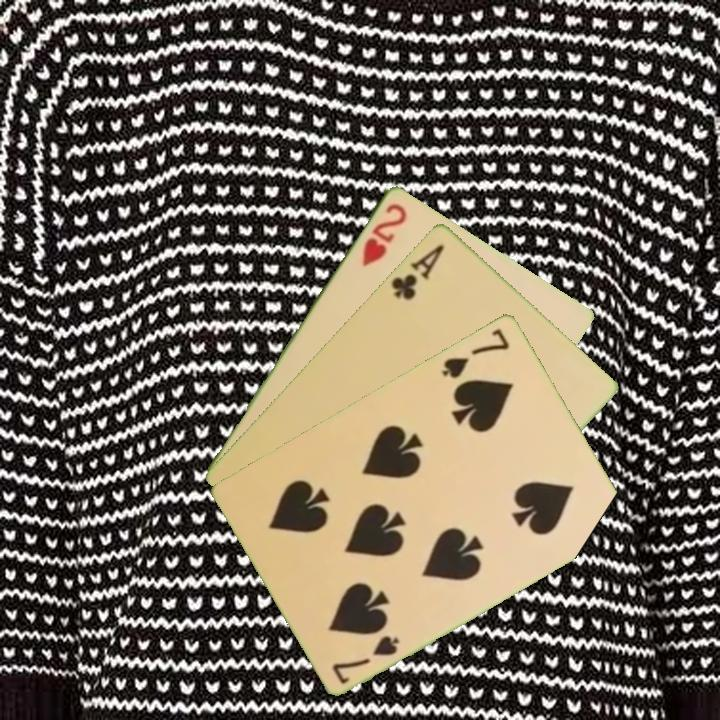2h: (358, 199, 410, 270)
7s: (438, 324, 513, 381), (328, 631, 403, 687)
Ac: (387, 240, 447, 303)
